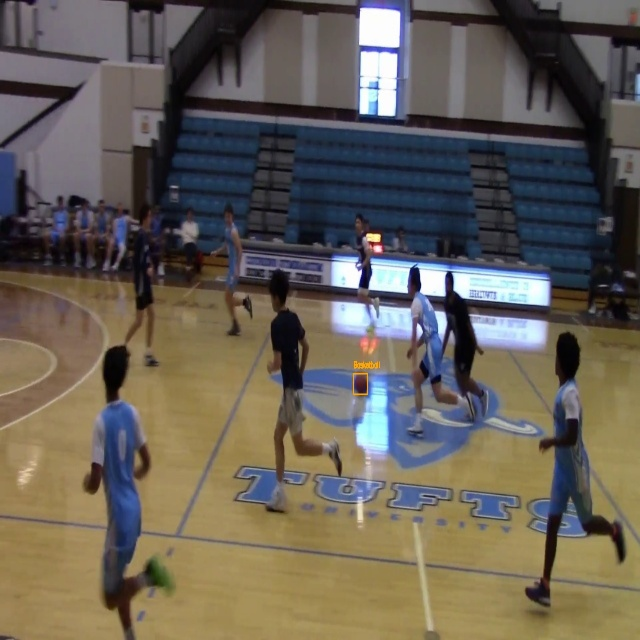Basketball: (353, 374, 368, 394)
